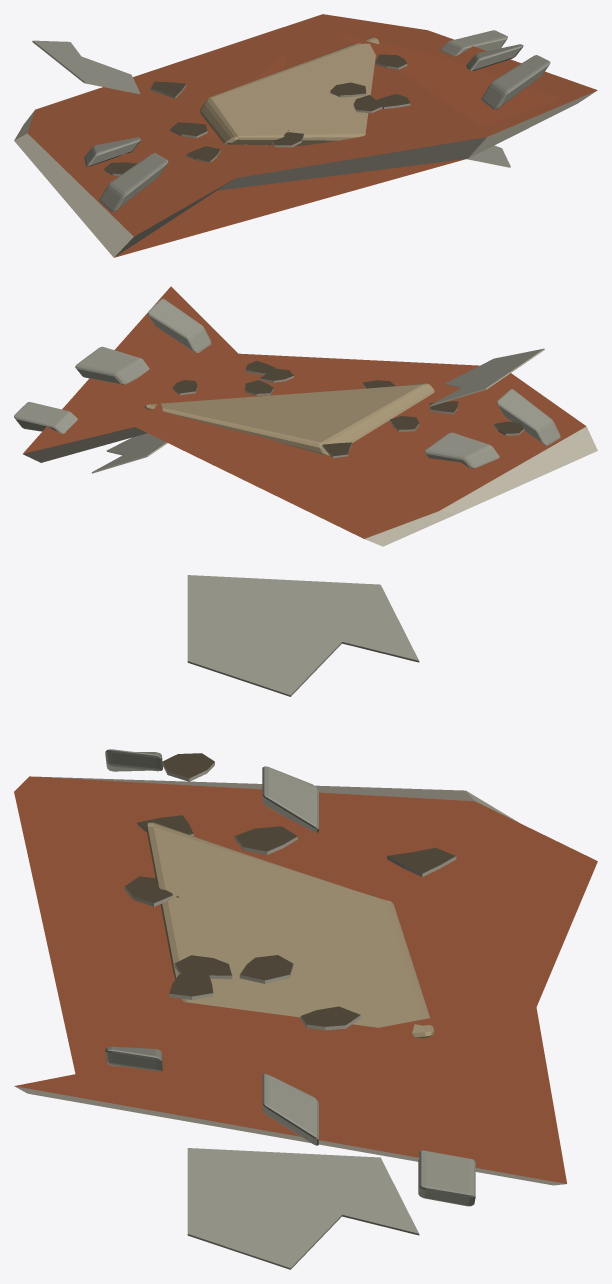
Rendered from Wrapper_Torn_Foil.glb.
3 views of the same model, one above another, from view 1: azimuth 30°, elevation 25°; view 2: azimuth 150°, elevation 25°; view 3: azimuth 270°, elevation 25° (orthographic). The views are drawn at different scales.
Visible parts, largest first — view 1: Litter; view 2: Litter; view 3: Litter.
Boxes of the visible parts, box(x1,y1,x2,y2) form: Litter: box(14, 14, 597, 257); Litter: box(14, 286, 597, 546); Litter: box(14, 575, 597, 1269).
Bounding box in the file's own units: 0.3803 × 0.1423 × 0.227.
